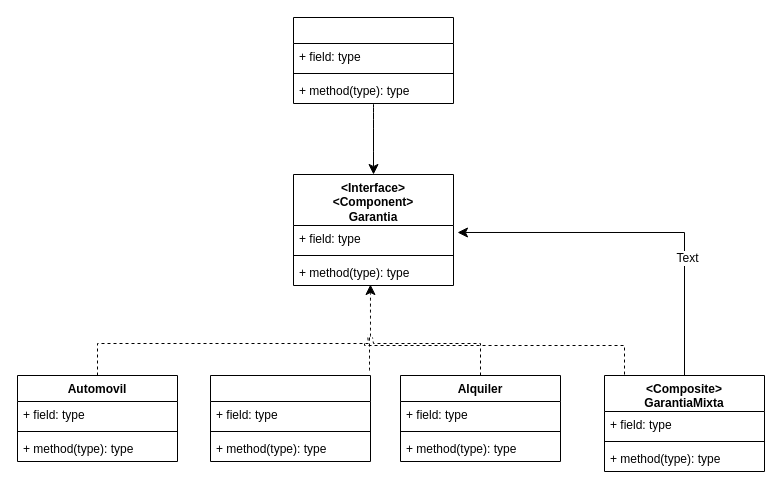
The diagram is 782 pixels wide and 492 high, and some of its shapes have lost their labels. The shapes that lost their labels are listed below. From the top down, each one's box as (x1, y1, x2, y2) in pixels, then its label:
(292, 16, 454, 104): Prestamo
(210, 374, 370, 462): Inmueble
